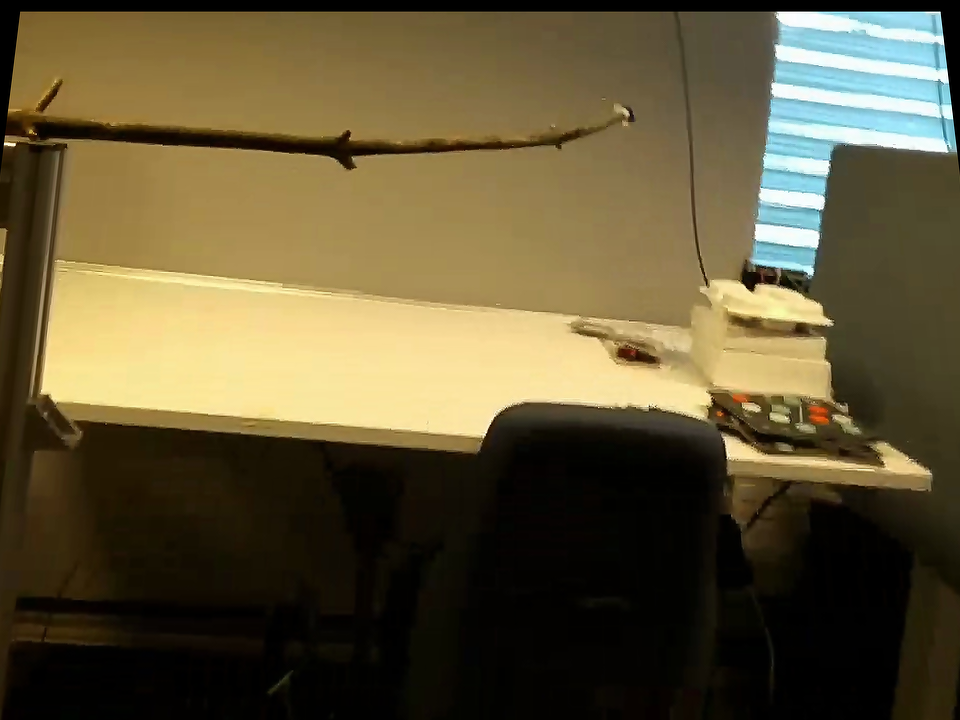branch: (68, 82, 642, 196)
